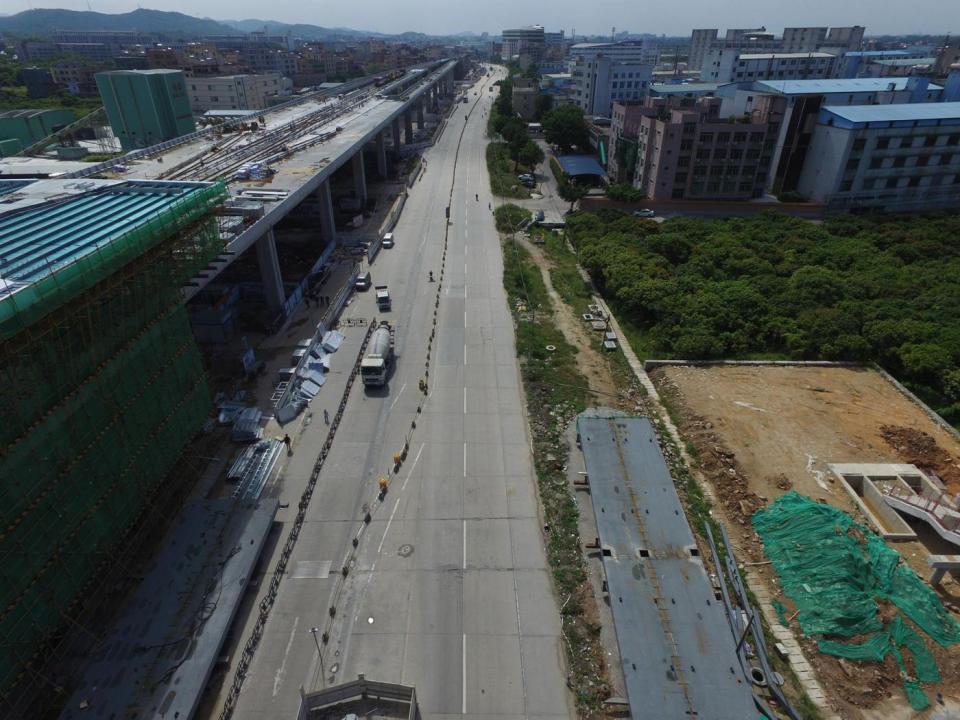bus: (463, 95, 468, 103), (474, 92, 477, 95)
car: (314, 266, 332, 285), (304, 282, 322, 296), (633, 209, 655, 217), (534, 208, 545, 222), (518, 173, 534, 180), (521, 181, 534, 188), (522, 177, 535, 183)
truck: (374, 285, 392, 310)
van: (354, 271, 371, 289), (383, 232, 393, 248)
